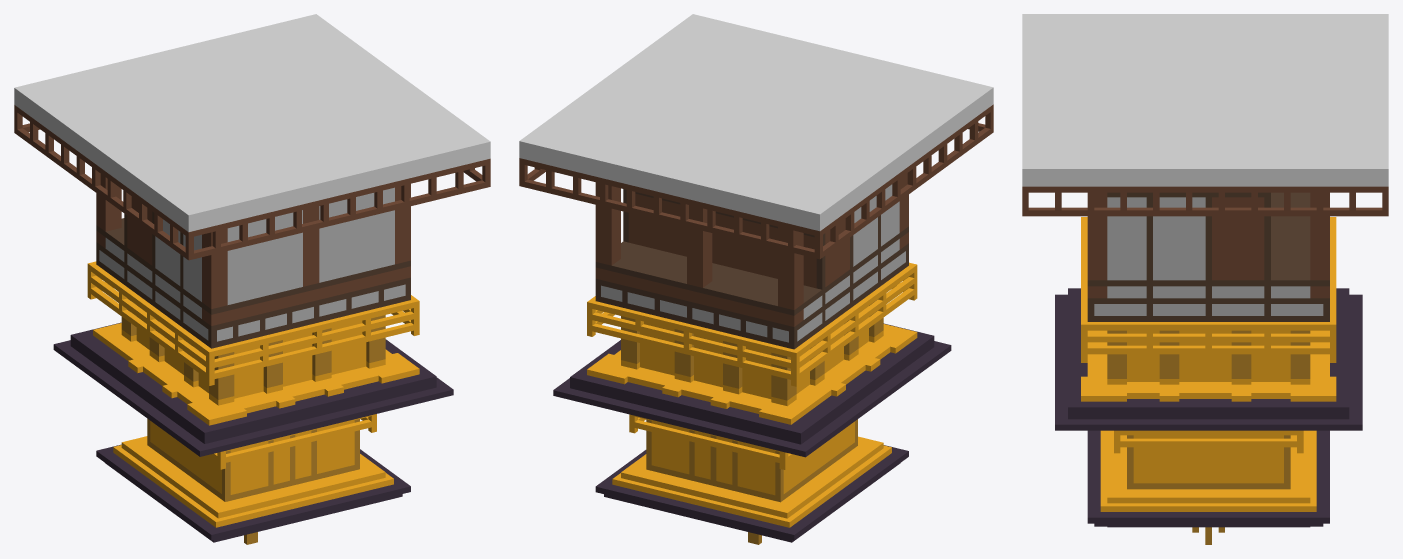
File: Matsumoto11.fbx
3 renders of one model, left to right at view 1: azimuth 30°, elevation 25°; view 2: azimuth 150°, elevation 25°; view 3: azimuth 270°, elevation 25°, orthographic. The views are drawn at different scales.
Visible parts, largest first — view 1: palette; view 2: palette; view 3: palette.
Boxes of the visible parts, box(x1,y1,x2,y2) form: palette: box(14, 14, 490, 544); palette: box(519, 14, 993, 544); palette: box(1022, 14, 1388, 544).
Size of the model in its own units: 56 by 76 by 56.
1 material, 1 textured.
